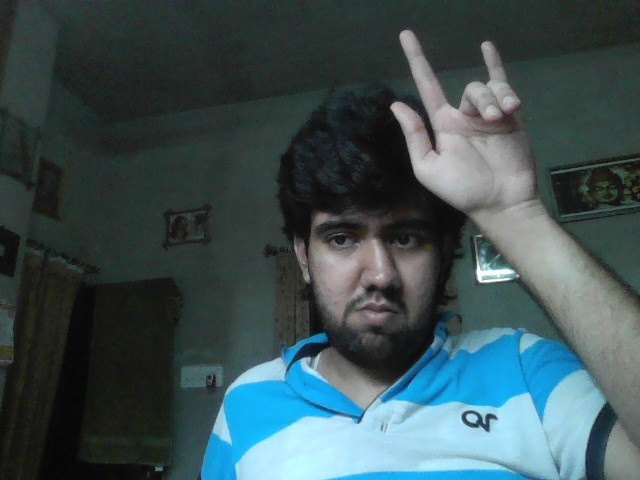ILoveYou: (390, 29, 543, 204)
